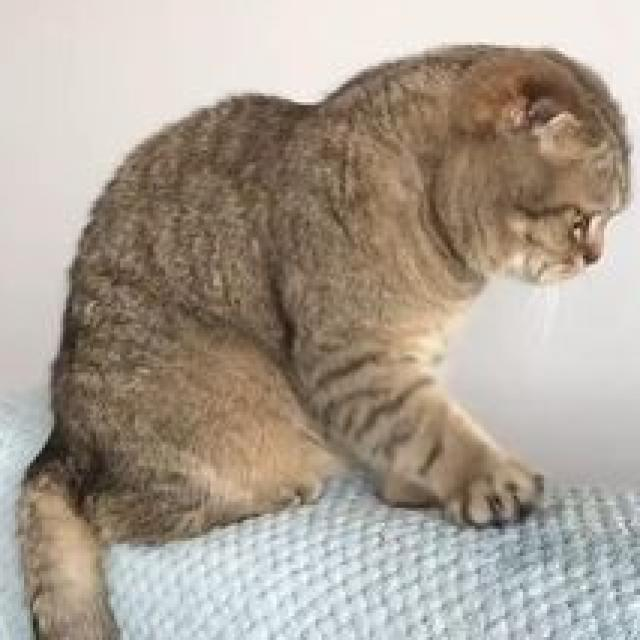Scottish Fold: (12, 27, 637, 640)
